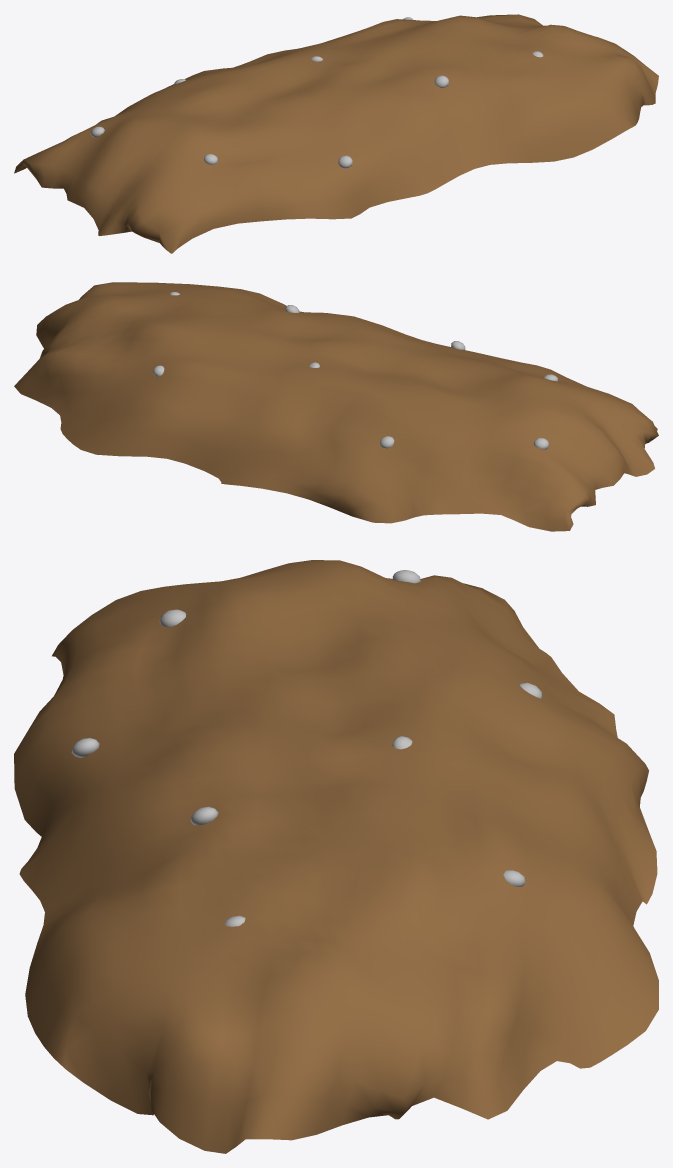
Rendered from MezarTopragi02.fbx.
The picture shows the model from 3 angles, top to bottom: view 1: azimuth 30°, elevation 25°; view 2: azimuth 150°, elevation 25°; view 3: azimuth 270°, elevation 25°; orthographic projection. The views are drawn at different scales.
Parts seen in each view (by area): view 1: MezarTopragı02; view 2: MezarTopragı02; view 3: MezarTopragı02.
Part boxes in pixels (box(x1,y1,x2,y2)): MezarTopragı02: box(14, 14, 658, 253); MezarTopragı02: box(14, 282, 658, 531); MezarTopragı02: box(14, 560, 658, 1153).
Bounding box in the file's own units: 161 × 21.65 × 81.67.
